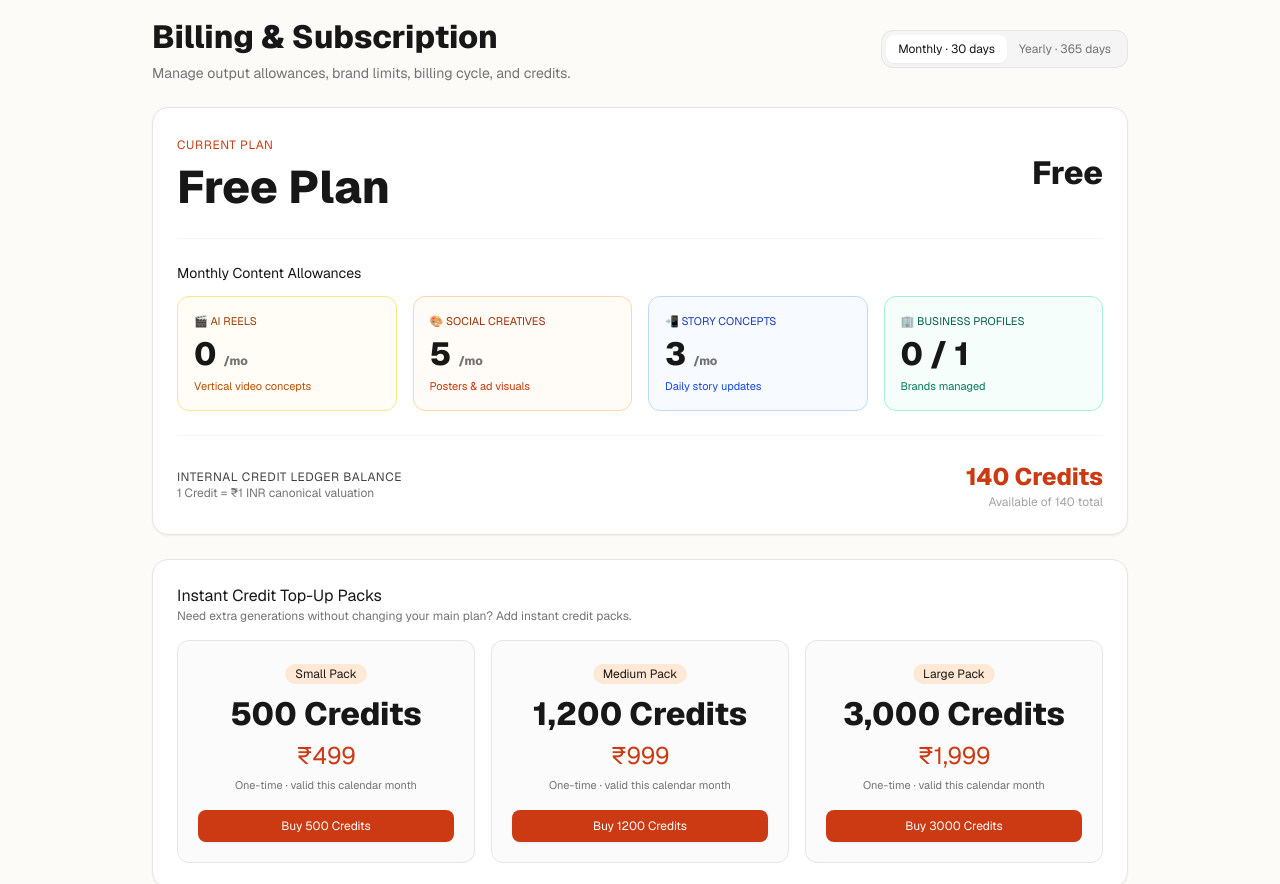
Test: BillingPage — Cashfree pricing & checkout › shows the price you actually pay for the whole term, in INR, with the no-auto-renewal note
This screenshot has width=1280, height=884.
Click the button "Yearly · 365 days" at (1065,49), box [1007,35,1123,63]
(page scrolled)
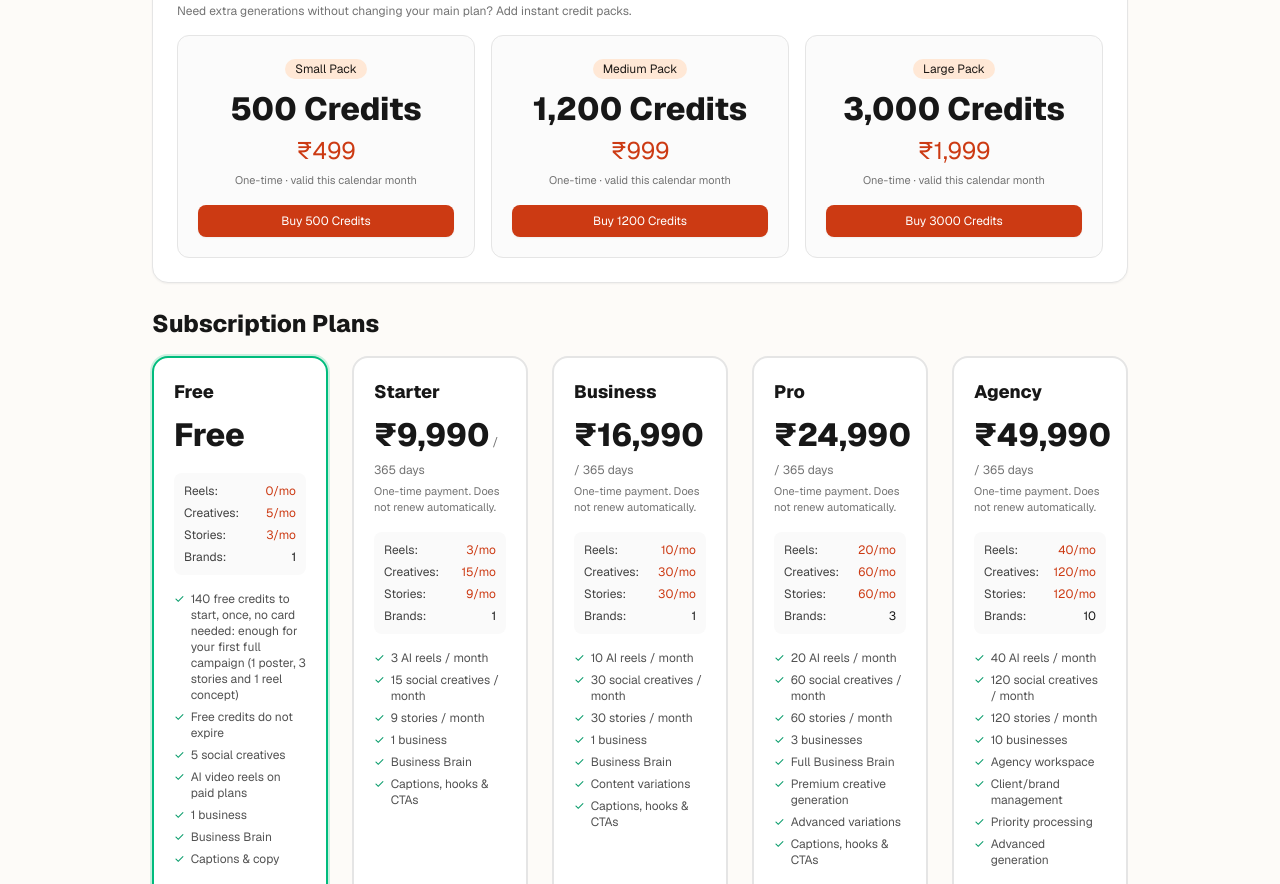
Expected: the text "₹16,990" is shown, [574,414,704,455]
Expected: the text "₹9,990" is shown, [374,414,490,455]
Expected: the text "₹24,990" is shown, [774,414,911,455]
